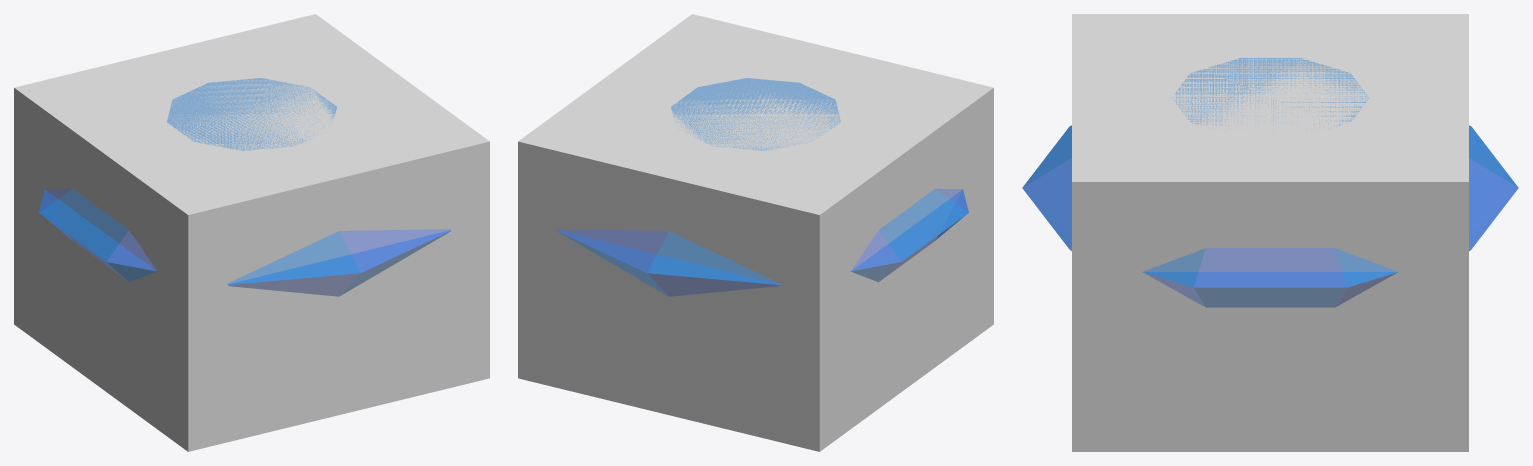
File: goal.gltf
The picture shows the model from 3 angles, left to right: view 1: azimuth 30°, elevation 25°; view 2: azimuth 150°, elevation 25°; view 3: azimuth 270°, elevation 25°; orthographic projection. The views are drawn at different scales.
Parts seen in each view (by area): view 1: COL, 円柱.001; view 2: COL, 円柱.001; view 3: COL, 円柱.001.
Boxes of the visible parts, <box> form: COL: <box>14,14,489,451</box>; 円柱.001: <box>39,78,450,296</box>; COL: <box>518,14,993,451</box>; 円柱.001: <box>557,78,968,296</box>; COL: <box>1072,14,1468,451</box>; 円柱.001: <box>1022,58,1518,307</box>.
Bounding box in the file's own units: 9.51 × 7 × 10.
